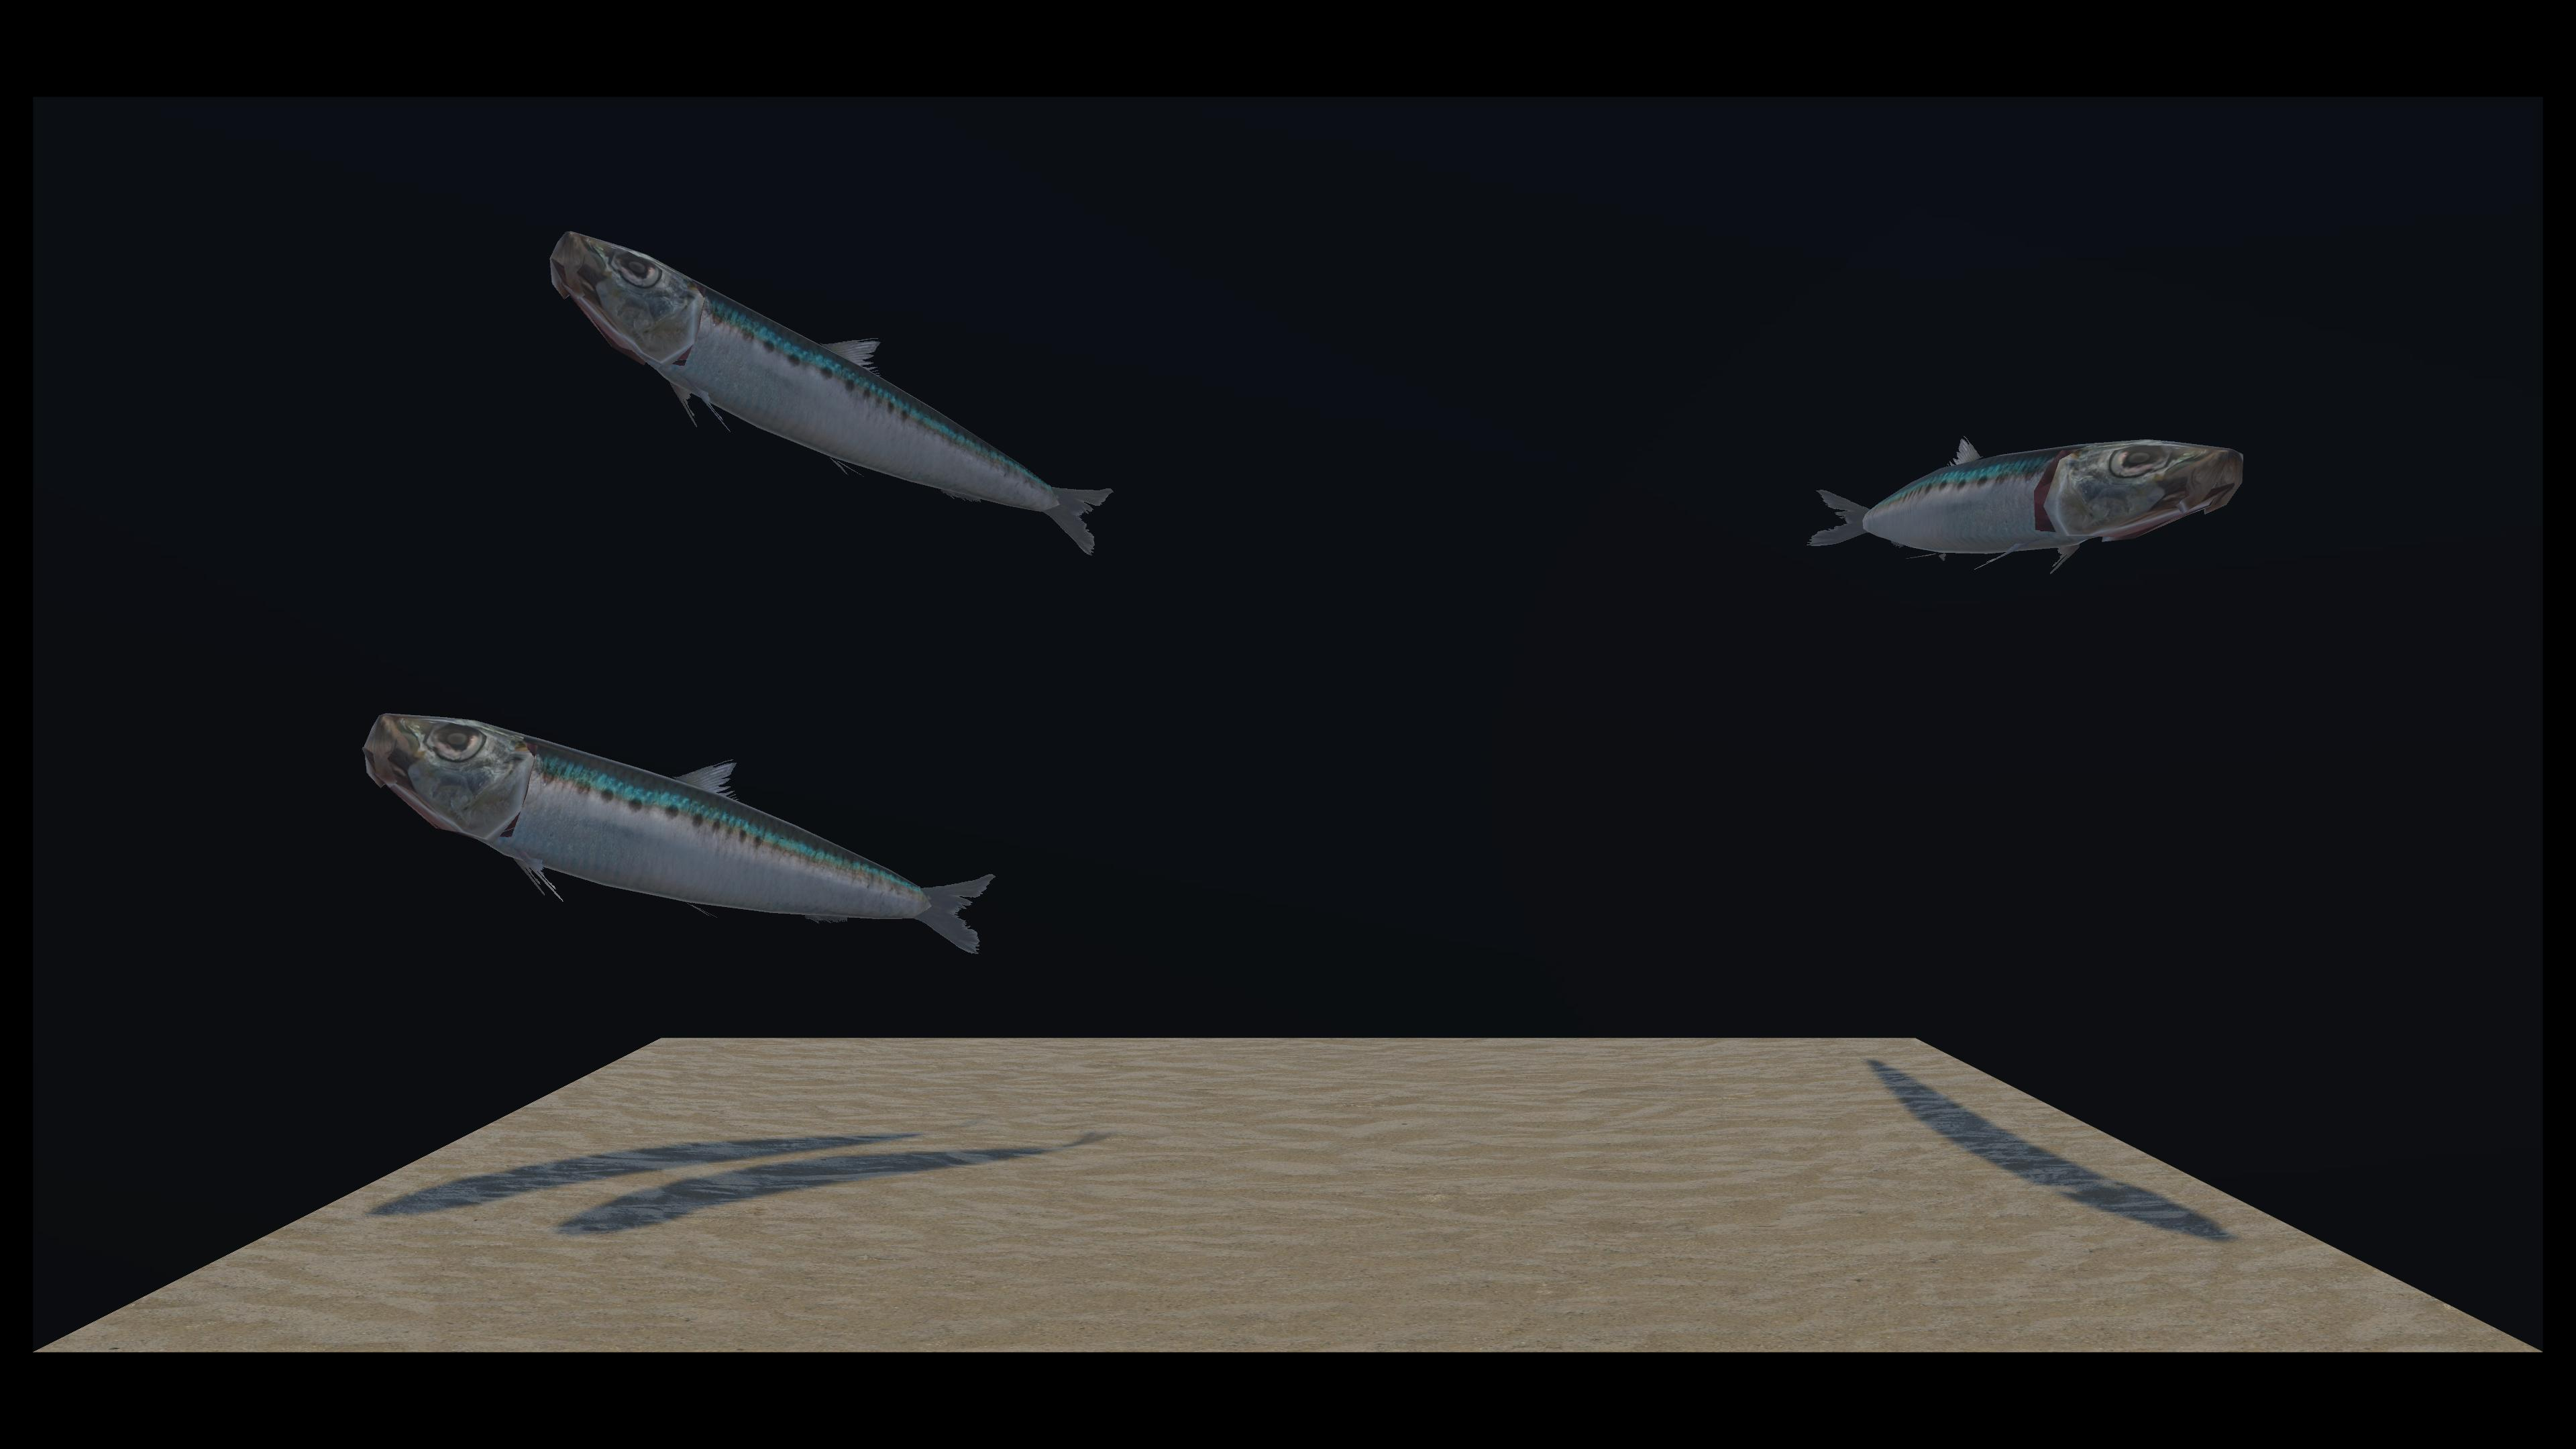Sardine_Front: (722, 387, 2227, 584), (389, 573, 993, 952), (573, 234, 1116, 594)
